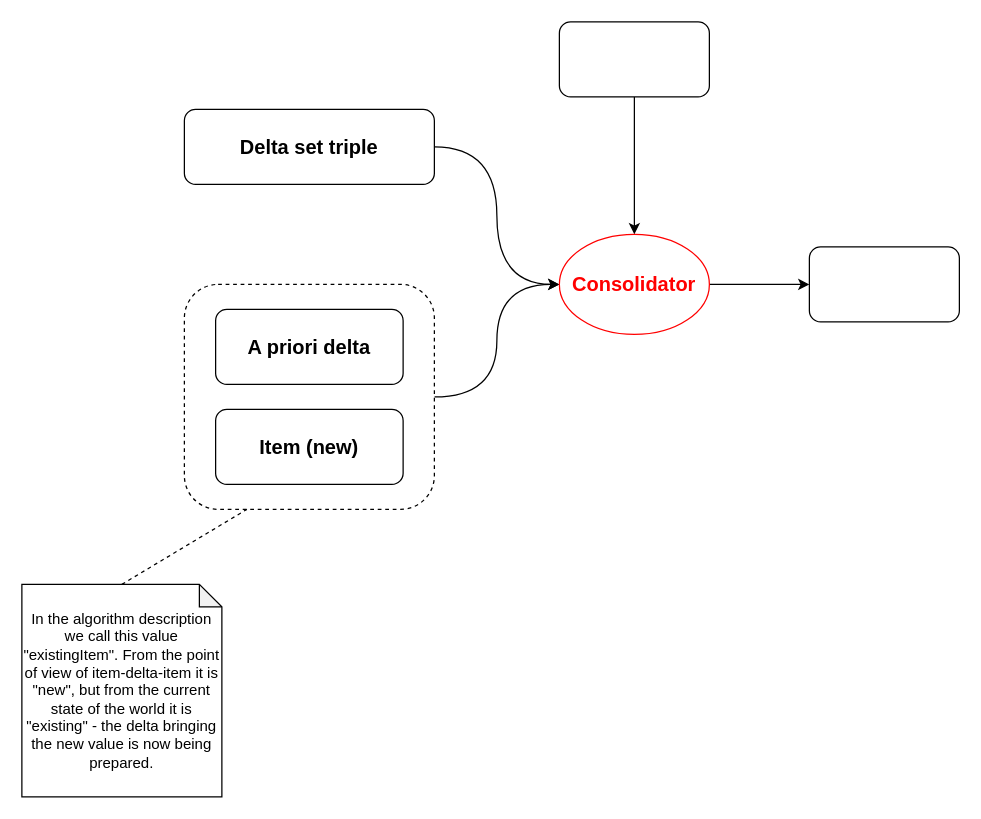
Image size: 981x819. Some labels were removed from this diagram. The box of each missing label's shape, as (x1, y1, x2, y2) in pixels:
Consolidation parameters: (558, 21, 709, 97)
Item delta: (808, 246, 959, 322)
Item-delta-item: (183, 283, 434, 509)
